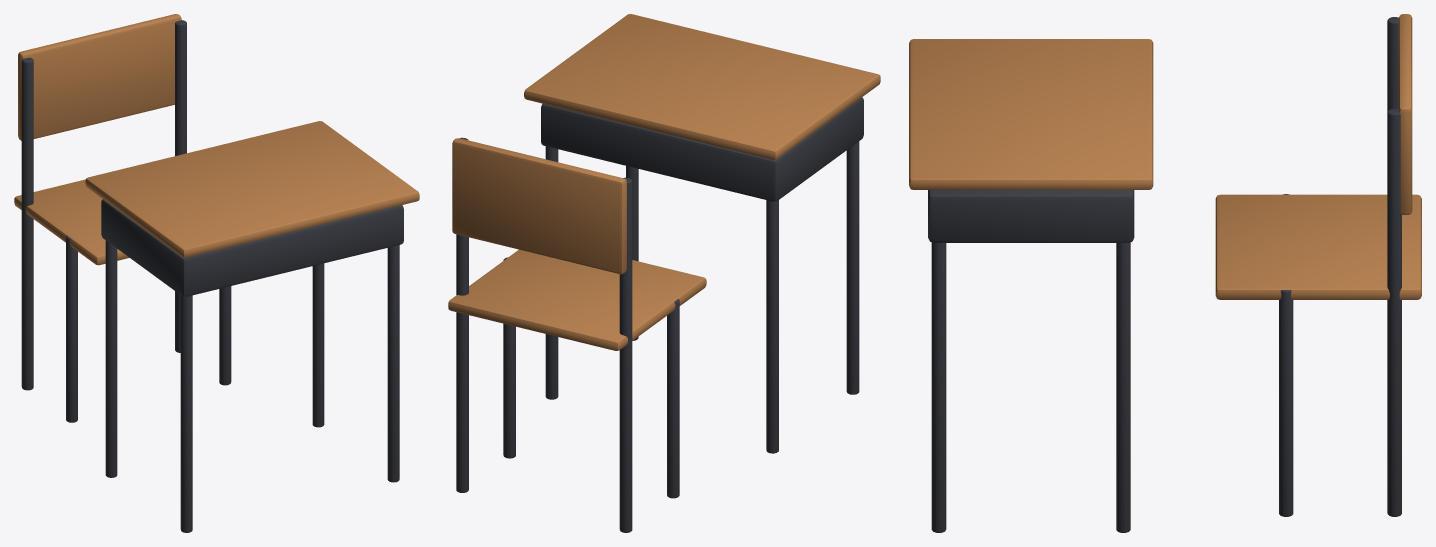
File: carteira.glb
3 renders of one model, left to right at view 1: azimuth 30°, elevation 25°; view 2: azimuth 150°, elevation 25°; view 3: azimuth 270°, elevation 25°, orthographic. The views are drawn at different scales.
Parts seen in each view (by area): view 1: Cube, Cube.003, Cube.001, Cube.002, Cylinder.003, Cylinder, Cylinder.004, Cylinder.001, Cylinder.002, Cylinder.005, Cylinder.007, Cylinder.006; view 2: Cube, Cube.003, Cube.002, Cube.001, Cylinder.003, Cylinder, Cylinder.001, Cylinder.007, Cylinder.002, Cylinder.006, Cylinder.005, Cylinder.004; view 3: Cube, Cube.002, Cube.001, Cylinder.007, Cylinder.004, Cylinder.005, Cylinder.006, Cube.003, Cylinder.003.
Part boxes in pixels (x1,y1,x2,y2): Cube: [85, 121, 419, 257]; Cube.003: [18, 14, 181, 140]; Cube.001: [101, 199, 403, 296]; Cube.002: [14, 179, 129, 265]; Cylinder.003: [21, 57, 33, 390]; Cylinder: [180, 295, 192, 532]; Cylinder.004: [387, 245, 399, 482]; Cylinder.001: [105, 240, 117, 477]; Cylinder.002: [66, 236, 77, 422]; Cylinder.005: [312, 263, 324, 427]; Cylinder.007: [175, 20, 186, 352]; Cylinder.006: [219, 286, 231, 385]; Cube: [524, 14, 880, 159]; Cube.003: [452, 138, 626, 274]; Cube.002: [448, 249, 706, 350]; Cube.001: [541, 97, 863, 201]; Cylinder.003: [619, 177, 632, 532]; Cylinder: [846, 141, 859, 394]; Cylinder.001: [766, 200, 778, 453]; Cylinder.007: [456, 137, 468, 492]; Cylinder.002: [667, 299, 679, 498]; Cylinder.006: [503, 257, 515, 458]; Cylinder.005: [545, 146, 558, 399]; Cylinder.004: [626, 166, 638, 340]; Cube: [909, 39, 1153, 189]; Cube.002: [1215, 194, 1421, 299]; Cube.001: [928, 190, 1134, 242]; Cylinder.007: [1387, 108, 1401, 516]; Cylinder.004: [931, 242, 946, 532]; Cylinder.005: [1116, 242, 1130, 532]; Cylinder.006: [1279, 290, 1293, 516]; Cube.003: [1398, 14, 1412, 214]; Cylinder.003: [1387, 17, 1398, 111].
Size of the model in its own units: 0.62 by 0.83 by 0.945.
